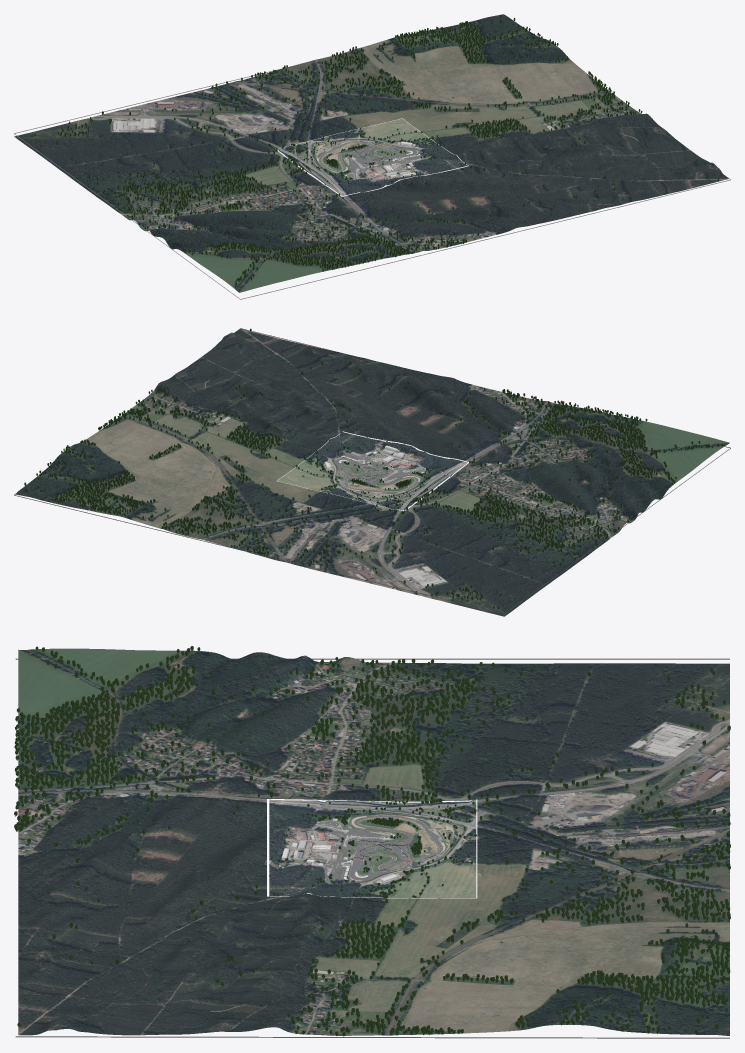
The model's file is sosnova.fbx.
3 views of the same model, one above another, from view 1: azimuth 30°, elevation 25°; view 2: azimuth 150°, elevation 25°; view 3: azimuth 270°, elevation 25° (orthographic). The views are drawn at different scales.
Parts seen in each view (by area): view 1: 1GRASS_far_00, 1GRASS_far_01, 1GRASS_far_02, 1GRASS_ground_2, 1GRASS_ground_3, 1GRASS_ground, 1GRASS_ground_1, 1ROAD_paddock, 1ROAD_track_00, 1GRASS_ground_4, TREESFAR_015, TREESFAR_007 (+20 smaller); view 2: 1GRASS_far_01, 1GRASS_far_00, 1GRASS_far_02, 1GRASS_ground_3, 1GRASS_ground_2, 1GRASS_ground_1, 1GRASS_ground, 1ROAD_paddock, 1ROAD_track_00, 1GRASS_ground_4, TREESFAR_015, TREESFAR_007 (+20 smaller); view 3: 1GRASS_far_01, 1GRASS_far_00, 1GRASS_far_02, 1GRASS_ground_3, 1GRASS_ground_2, 1GRASS_ground, 1GRASS_ground_1, 1ROAD_paddock, 1ROAD_track_00, 1GRASS_ground_4, TREESFAR_015, TREESFAR_007 (+23 smaller).
Part boxes in pixels (x1,y1,x2,y2): 1GRASS_far_00: [14, 14, 605, 212]; 1GRASS_far_01: [119, 90, 715, 282]; 1GRASS_far_02: [227, 165, 728, 292]; 1GRASS_ground_2: [303, 136, 444, 180]; 1GRASS_ground_3: [320, 149, 459, 190]; 1GRASS_ground: [277, 118, 413, 157]; 1GRASS_ground_1: [290, 127, 426, 167]; 1ROAD_paddock: [277, 137, 429, 195]; 1ROAD_track_00: [319, 140, 430, 179]; 1GRASS_ground_4: [335, 159, 467, 196]; TREESFAR_015: [144, 106, 642, 252]; TREESFAR_007: [88, 39, 568, 184]; 1GRASS_far_01: [120, 335, 717, 539]; 1GRASS_far_00: [15, 419, 608, 616]; 1GRASS_far_02: [227, 329, 729, 450]; 1GRASS_ground_3: [320, 438, 459, 479]; 1GRASS_ground_2: [302, 449, 444, 493]; 1GRASS_ground_1: [289, 463, 425, 502]; 1GRASS_ground: [277, 472, 413, 510]; 1ROAD_paddock: [300, 441, 467, 509]; 1ROAD_track_00: [334, 450, 425, 492]; 1GRASS_ground_4: [334, 432, 467, 468]; TREESFAR_015: [147, 385, 675, 520]; TREESFAR_007: [61, 439, 563, 567]; 1GRASS_far_01: [57, 648, 404, 1035]; 1GRASS_far_00: [400, 663, 729, 1035]; 1GRASS_far_02: [18, 648, 61, 1035]; 1GRASS_ground_3: [295, 800, 341, 896]; 1GRASS_ground_2: [340, 801, 397, 897]; 1GRASS_ground: [439, 799, 476, 897]; 1GRASS_ground_1: [397, 801, 439, 898]; 1ROAD_paddock: [269, 800, 476, 892]; 1ROAD_track_00: [316, 815, 442, 883]; 1GRASS_ground_4: [269, 799, 295, 896]; TREESFAR_015: [185, 646, 328, 1034]; TREESFAR_007: [496, 667, 585, 1028].
Size of what is drawn, in the model's own units: 2506 by 65.24 by 2007.
